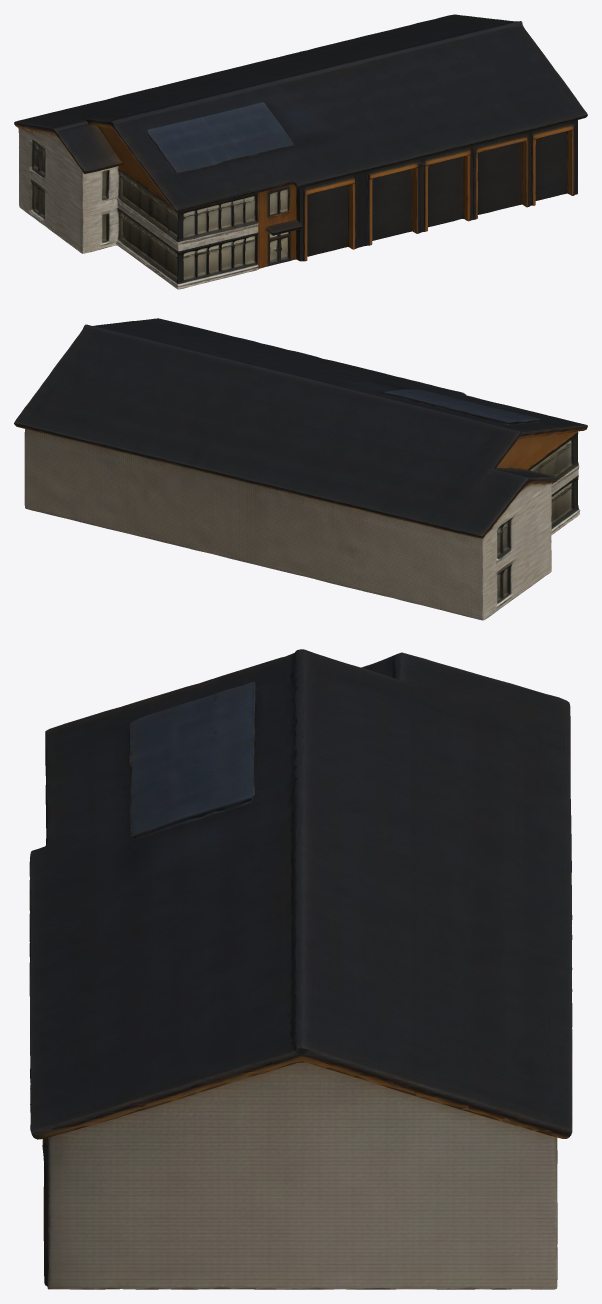
The model's file is cw-rally-point.glb.
3 views of the same model, one above another, from view 1: azimuth 30°, elevation 25°; view 2: azimuth 150°, elevation 25°; view 3: azimuth 270°, elevation 25° (orthographic). The views are drawn at different scales.
Visible parts, largest first — view 1: Mesh; view 2: Mesh; view 3: Mesh.
Part boxes in pixels (x1,y1,x2,y2): Mesh: (14,14,587,289); Mesh: (14,318,587,620); Mesh: (29,649,572,1289).
Bounding box in the file's own units: 1.9 × 0.5153 × 1.01.
Materials: 1 (1 with a texture image).
